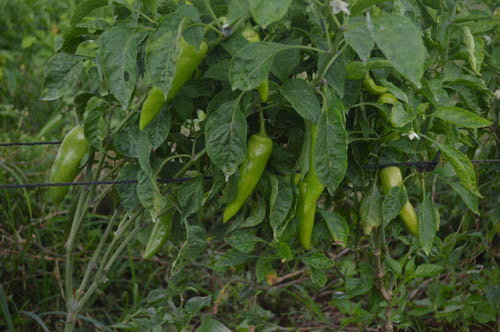ChiliPepper: (142, 37, 209, 125), (224, 138, 270, 226), (297, 117, 339, 208), (383, 161, 425, 234), (52, 126, 89, 206), (292, 186, 313, 247)
